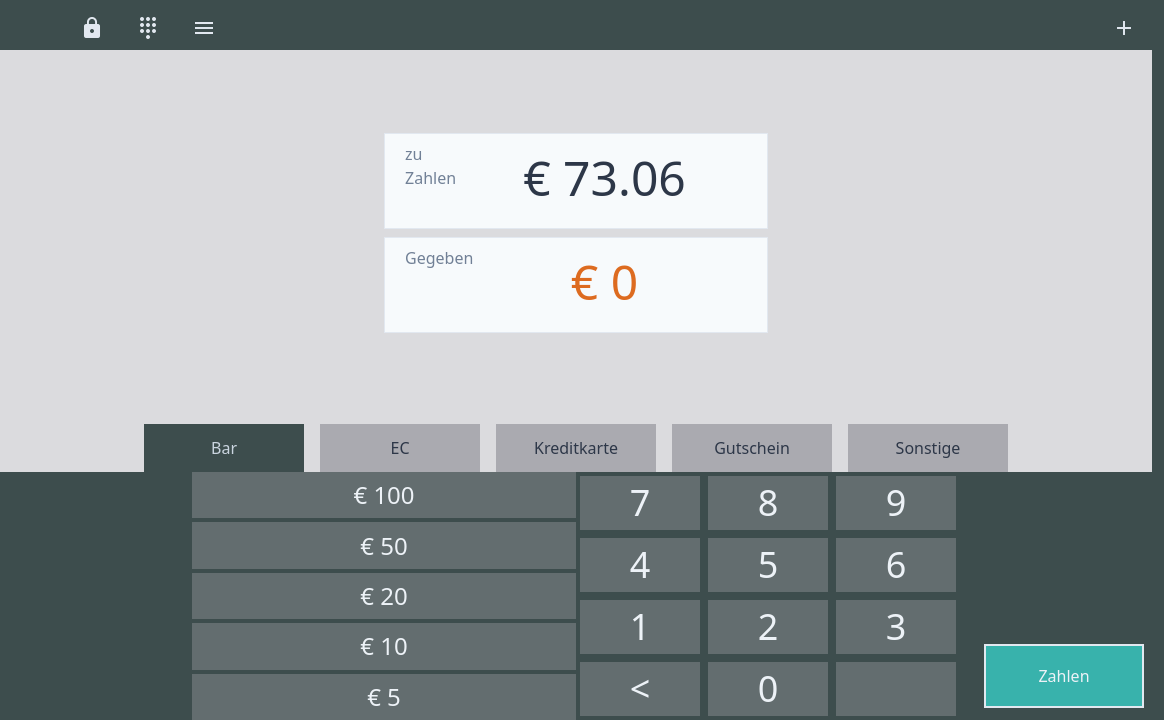
Test: Topbar › Renders new tab names with tab No
The width and height of the screenshot is (1164, 720).
What coordinates should you click on to do the following:
click the button with test id "ButtonAdd"
I would click on:
 (1124, 31)
Its box is [1096,12,1152,50].
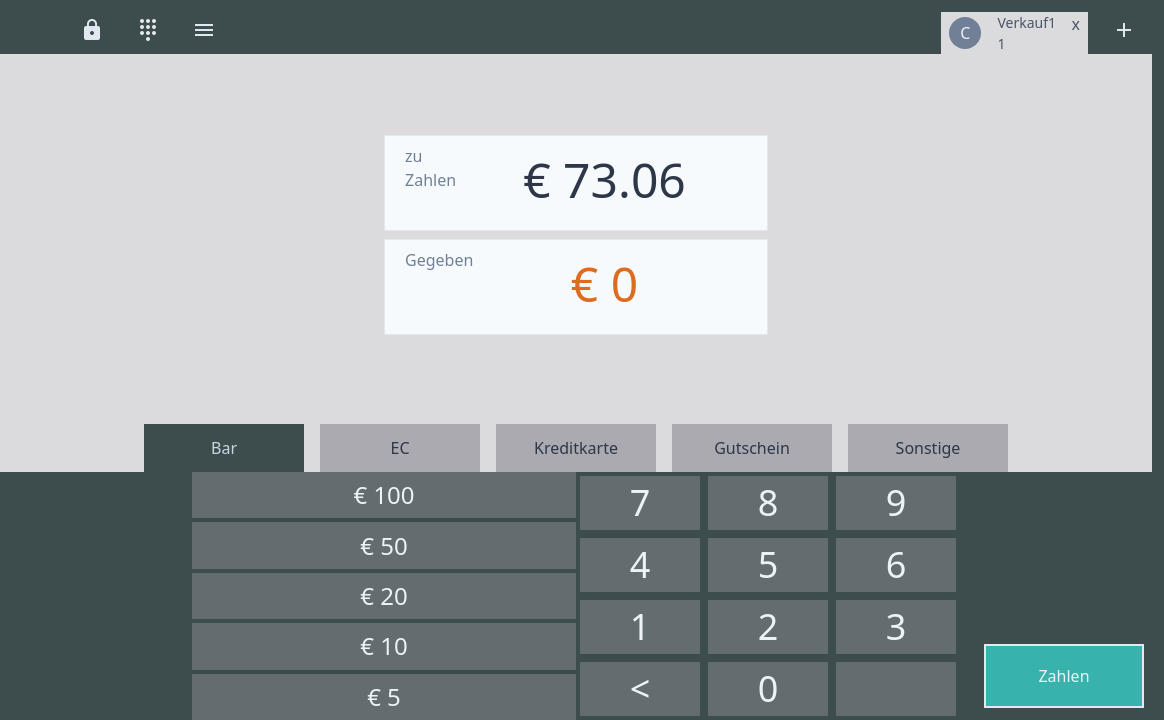
Expected: the button with test id "Tab1" is shown, [941,12,1088,54]
What coordinates should you click on to do the following:
click the button with test id "ButtonAdd"
I would click on:
 (1124, 33)
Its box is [1096,12,1152,54].
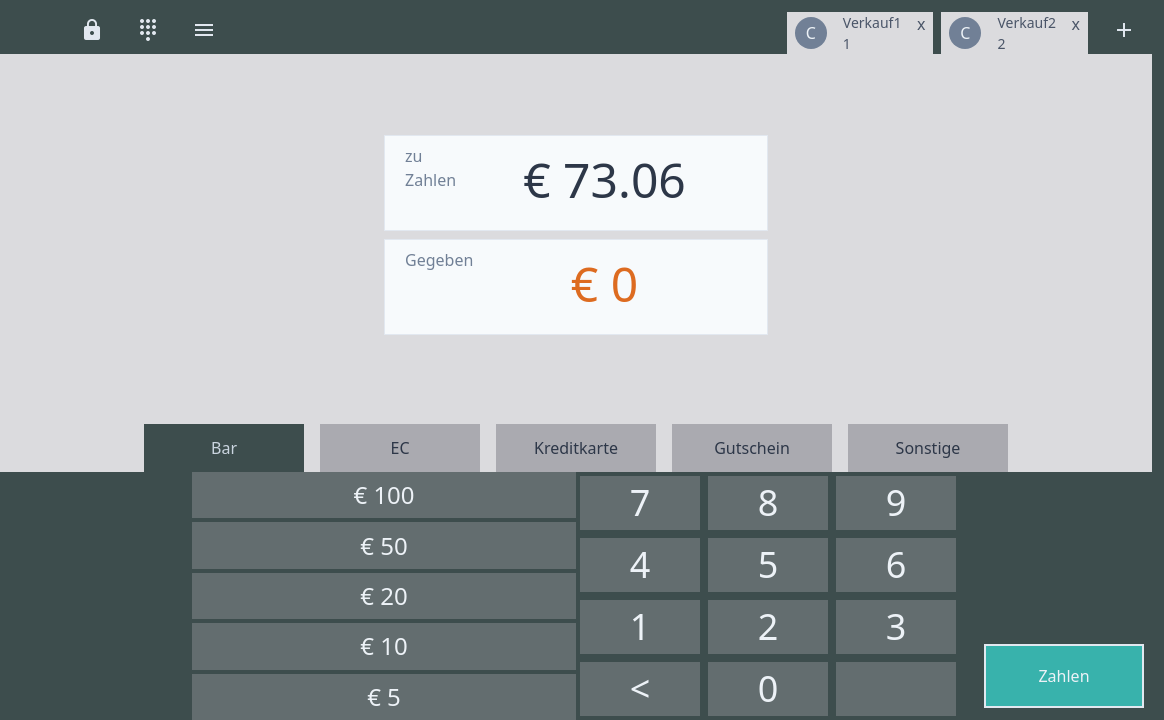
Expected: the button with test id "Tab2" is shown, [941,12,1088,54]
